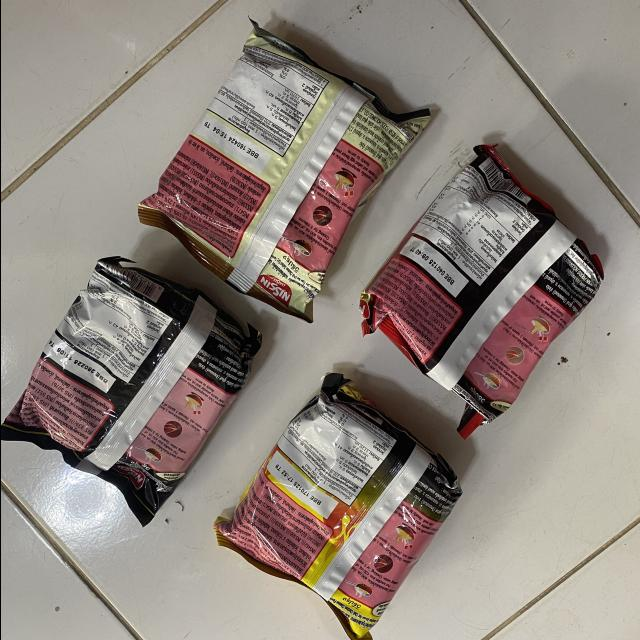plastik: (137, 22, 428, 322), (360, 145, 602, 439), (0, 256, 260, 526), (213, 373, 461, 640)
